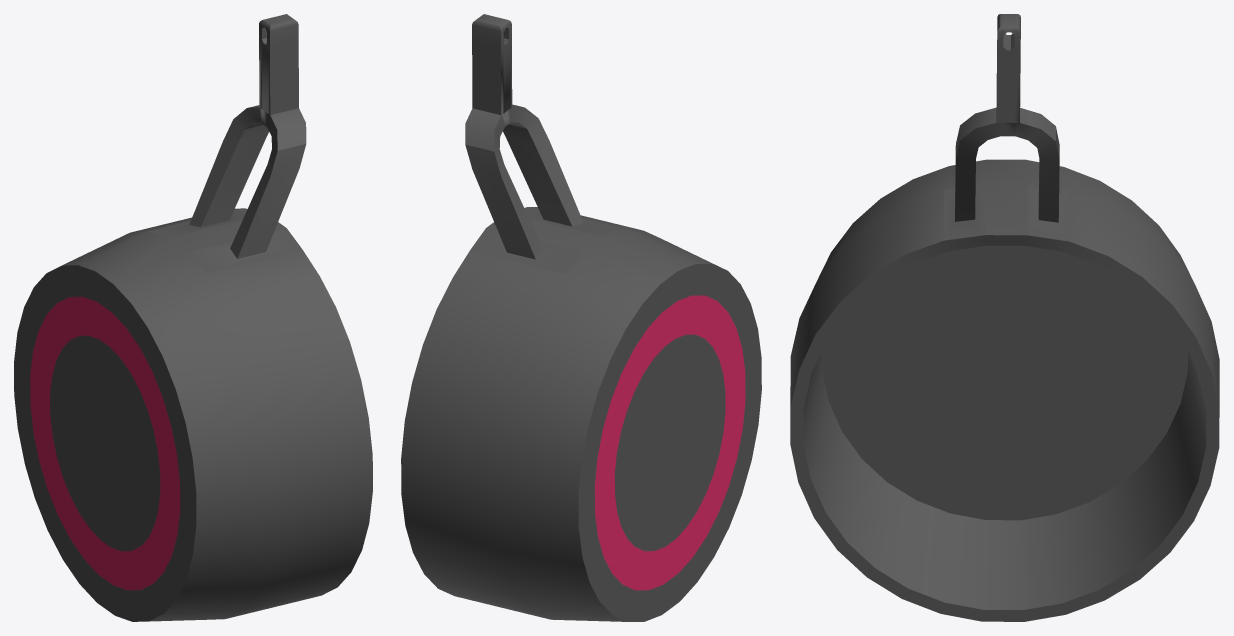
File: KitchenPotSmall.fbx
The picture shows the model from 3 angles, left to right: view 1: azimuth 30°, elevation 25°; view 2: azimuth 150°, elevation 25°; view 3: azimuth 270°, elevation 25°; orthographic projection. The views are drawn at different scales.
Visible parts, largest first — view 1: KitchenPotSmall_Baked; view 2: KitchenPotSmall_Baked; view 3: KitchenPotSmall_Baked.
Part boxes in pixels (x1,y1,x2,y2): KitchenPotSmall_Baked: (14,14,372,621); KitchenPotSmall_Baked: (401,14,761,621); KitchenPotSmall_Baked: (790,14,1219,621).
Size of the model in its own units: 9.48 by 26.7 by 17.14.
Materials: 1 (1 with a texture image).
